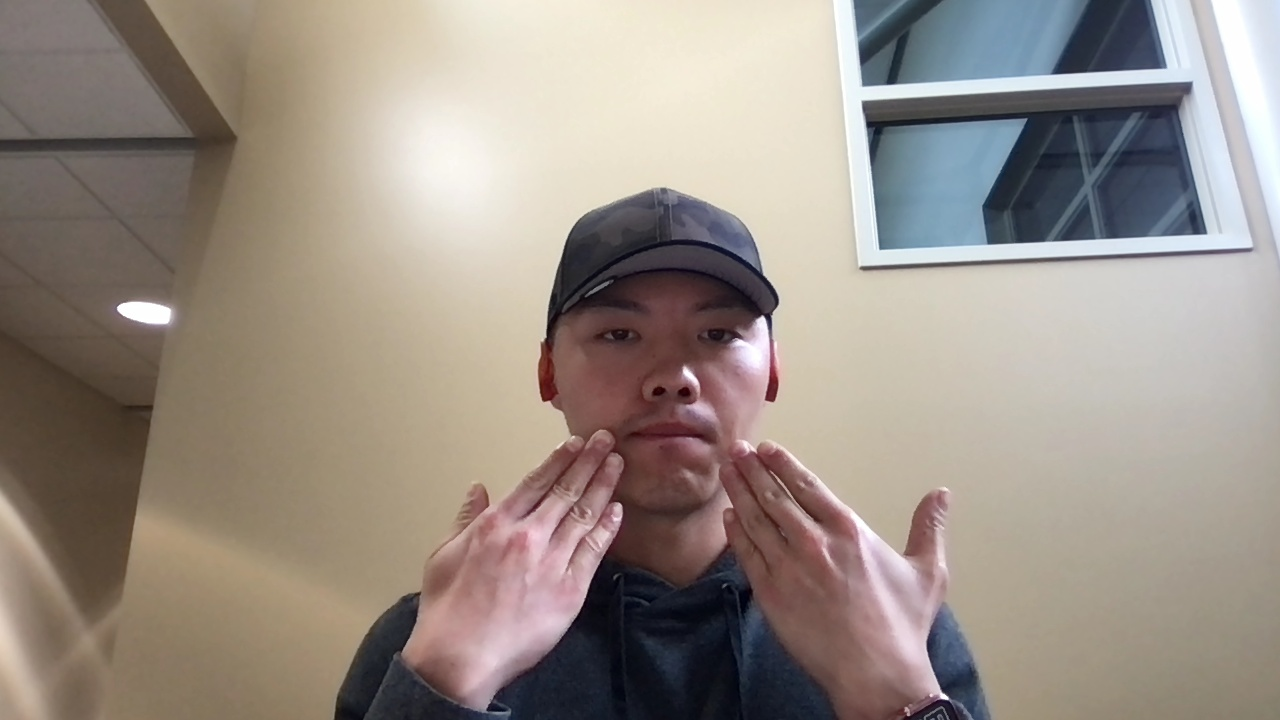Thank You: (412, 428, 956, 683)
